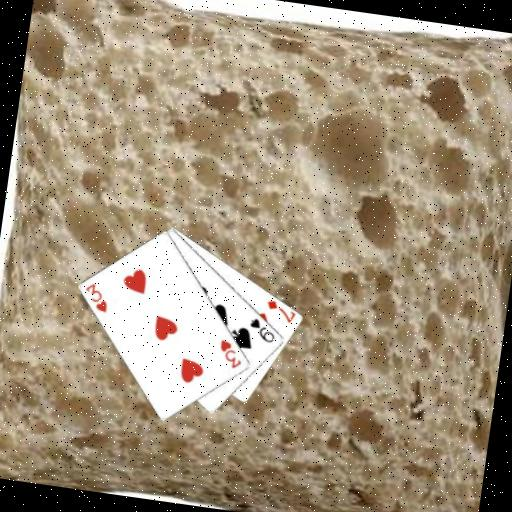3H: (80, 279, 113, 314), (215, 337, 247, 372)
7D: (262, 297, 299, 326)
9S: (245, 314, 279, 345)
